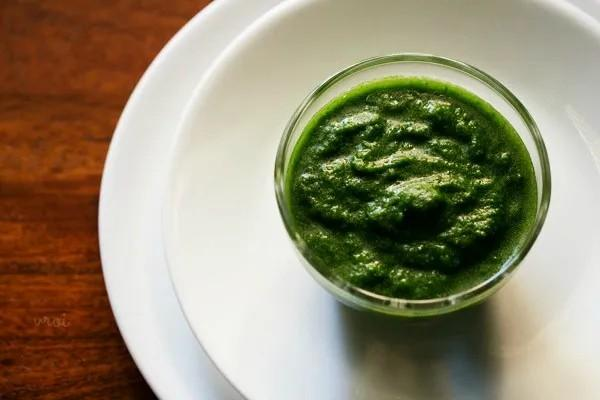GreenChutney: (290, 82, 537, 301)
